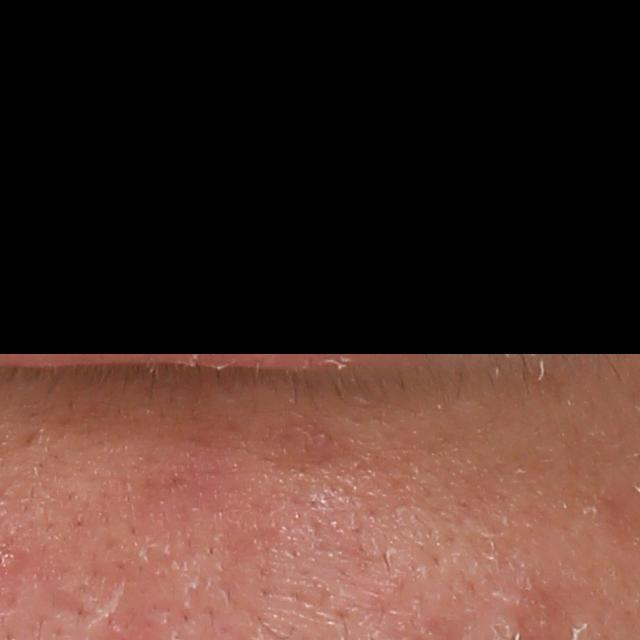atrophic_scar: (19, 428, 44, 446)
